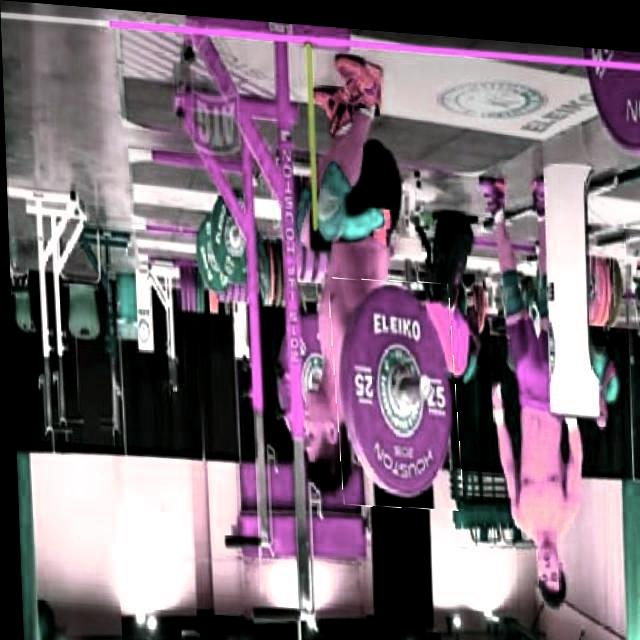barbell: (329, 271, 459, 505)
